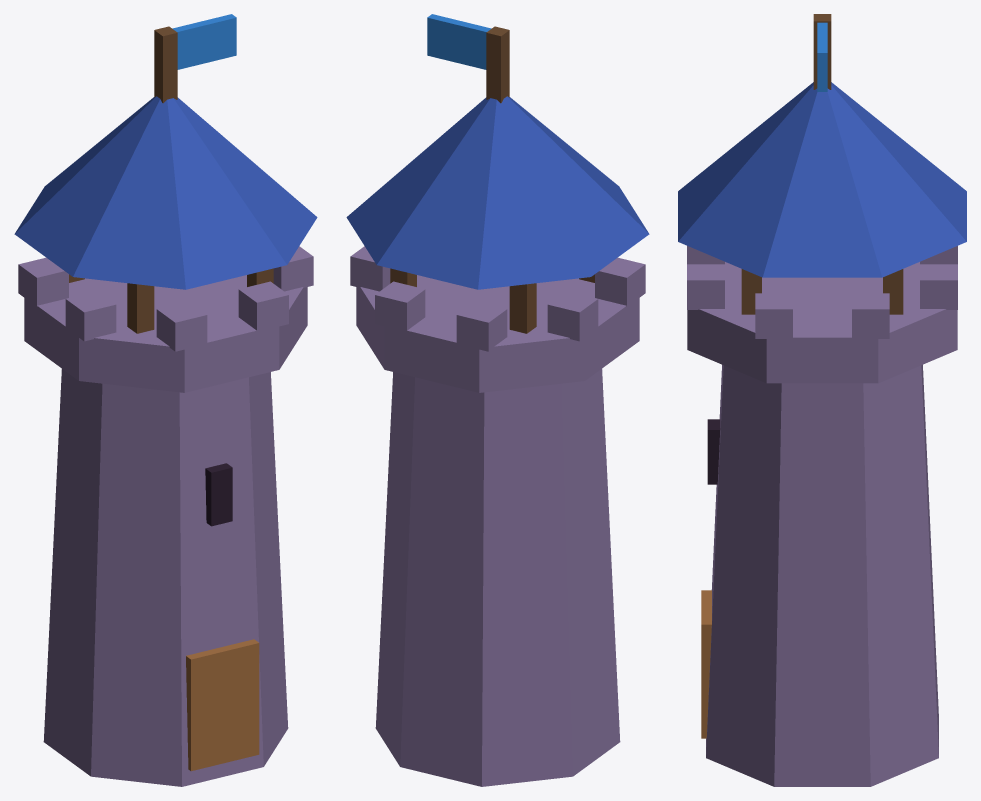
File: watchtower.glb
3 views of the same model, side by side, from view 1: azimuth 30°, elevation 25°; view 2: azimuth 150°, elevation 25°; view 3: azimuth 270°, elevation 25° (orthographic). The views are drawn at different scales.
Visible parts, largest first — view 1: Model; view 2: Model; view 3: Model.
Part boxes in pixels (<box>): Model: <box>14,14,317,786</box>; Model: <box>346,14,649,786</box>; Model: <box>678,14,966,786</box>.
Bounding box in the file's own units: 1.15 × 3.15 × 1.15.
